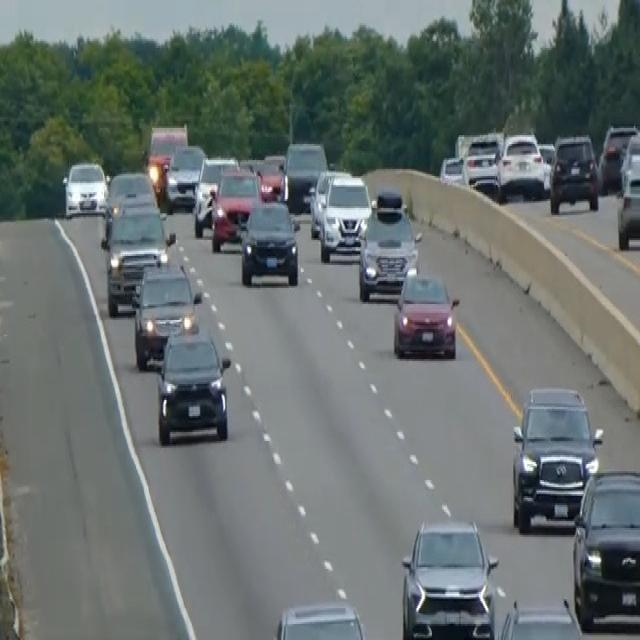car: (510, 382, 602, 532), (399, 516, 499, 638), (571, 466, 639, 631), (155, 316, 231, 446), (101, 196, 175, 314), (130, 260, 202, 370), (392, 265, 459, 359), (239, 198, 300, 286), (318, 173, 372, 263), (209, 165, 263, 252), (548, 132, 599, 214), (494, 596, 586, 638), (272, 599, 368, 638), (192, 154, 237, 236), (497, 130, 545, 199), (307, 167, 351, 238), (283, 139, 328, 208), (163, 142, 206, 210), (598, 123, 639, 192), (61, 158, 108, 217), (462, 132, 502, 196), (239, 154, 285, 202), (616, 160, 639, 251), (105, 169, 156, 210), (619, 130, 639, 190), (439, 153, 464, 185)
jeep: (357, 187, 421, 302)
